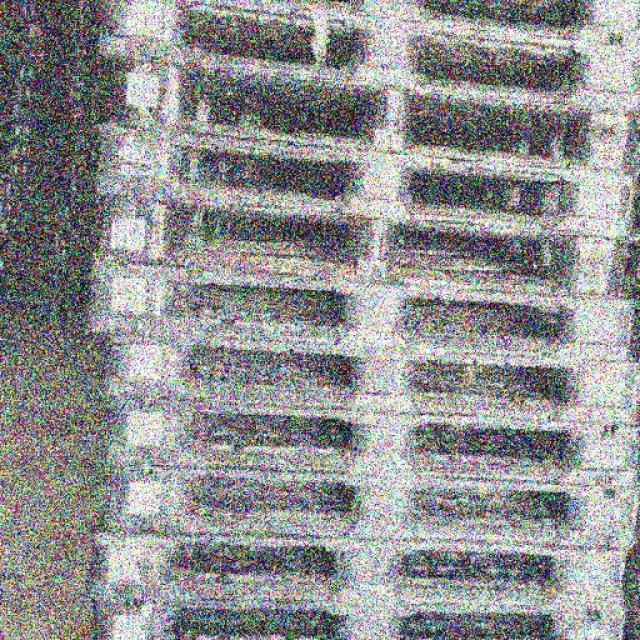igps: (92, 25, 640, 182), (72, 170, 640, 306), (77, 113, 640, 250), (74, 242, 640, 373), (87, 438, 640, 562), (87, 319, 640, 440), (86, 0, 640, 120), (89, 373, 640, 488), (82, 519, 640, 623), (79, 574, 639, 640), (61, 0, 640, 42)
